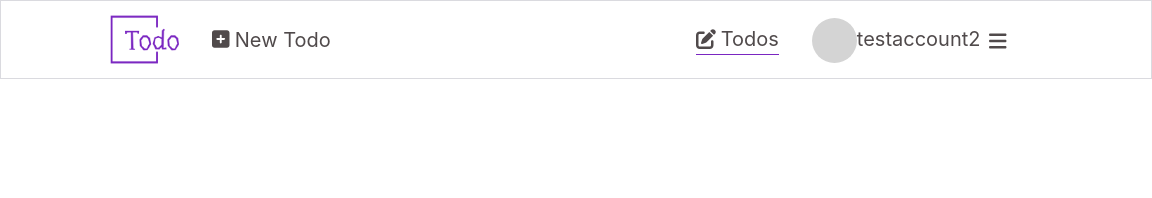
Test case: renders sign in and sign out again on log out
The width and height of the screenshot is (1152, 198).
Click the button "testaccount2" at [911, 40], box [799,9,1024,70]
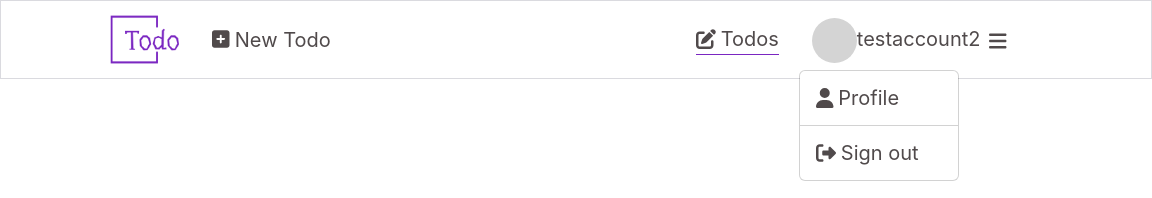
Click the button "Sign out" at [867, 153], box [816,141,919,165]
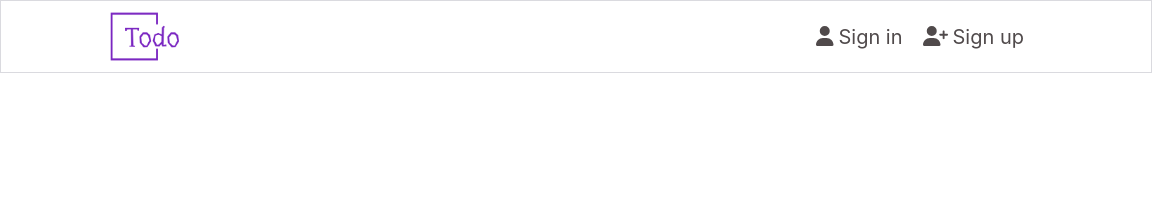
Expected: the link "Sign in" is shown, [816,22,902,52]
Expected: the link "Sign up" is shown, [922,22,1024,52]
